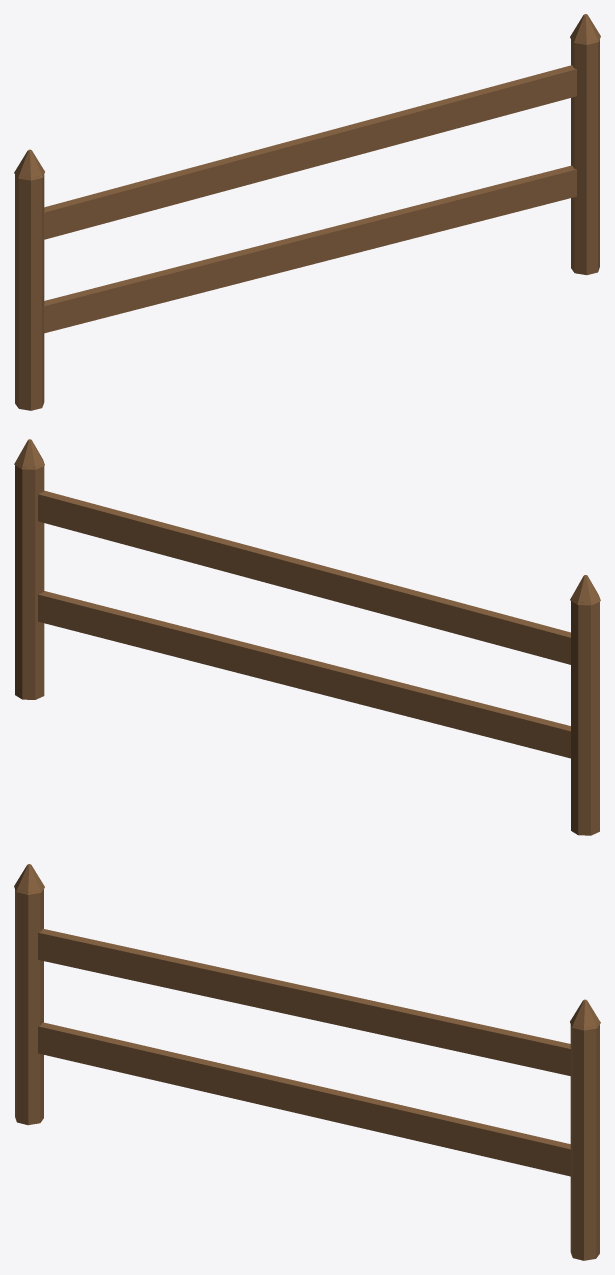
File: zaun.glb
3 views of the same model, one above another, from view 1: azimuth 30°, elevation 25°; view 2: azimuth 150°, elevation 25°; view 3: azimuth 330°, elevation 25° (orthographic).
Parts seen in each view (by area): view 1: latte.001, latte, pfosten, pfosten.001, kappe, kappe.001; view 2: latte.001, latte, pfosten, pfosten.001, kappe.001, kappe; view 3: latte, latte.001, pfosten.001, pfosten, kappe.001, kappe.
Part boxes in pixels (bbox=[...]): latte.001: bbox=[43, 65, 576, 239]; latte: bbox=[43, 165, 576, 333]; pfosten: bbox=[15, 171, 44, 410]; pfosten.001: bbox=[571, 36, 599, 275]; kappe: bbox=[14, 149, 44, 180]; kappe.001: bbox=[570, 14, 600, 44]; latte.001: bbox=[38, 490, 570, 664]; latte: bbox=[38, 591, 570, 758]; pfosten: bbox=[571, 598, 599, 835]; pfosten.001: bbox=[15, 462, 44, 699]; kappe.001: bbox=[14, 439, 44, 469]; kappe: bbox=[570, 575, 600, 605]; latte: bbox=[38, 1022, 571, 1176]; latte.001: bbox=[38, 928, 571, 1076]; pfosten.001: bbox=[570, 1021, 599, 1260]; pfosten: bbox=[15, 886, 43, 1125]; kappe.001: bbox=[570, 999, 600, 1030]; kappe: bbox=[14, 864, 44, 894].
Bounding box in the file's own units: 3.15 × 1.31 × 0.1426.
